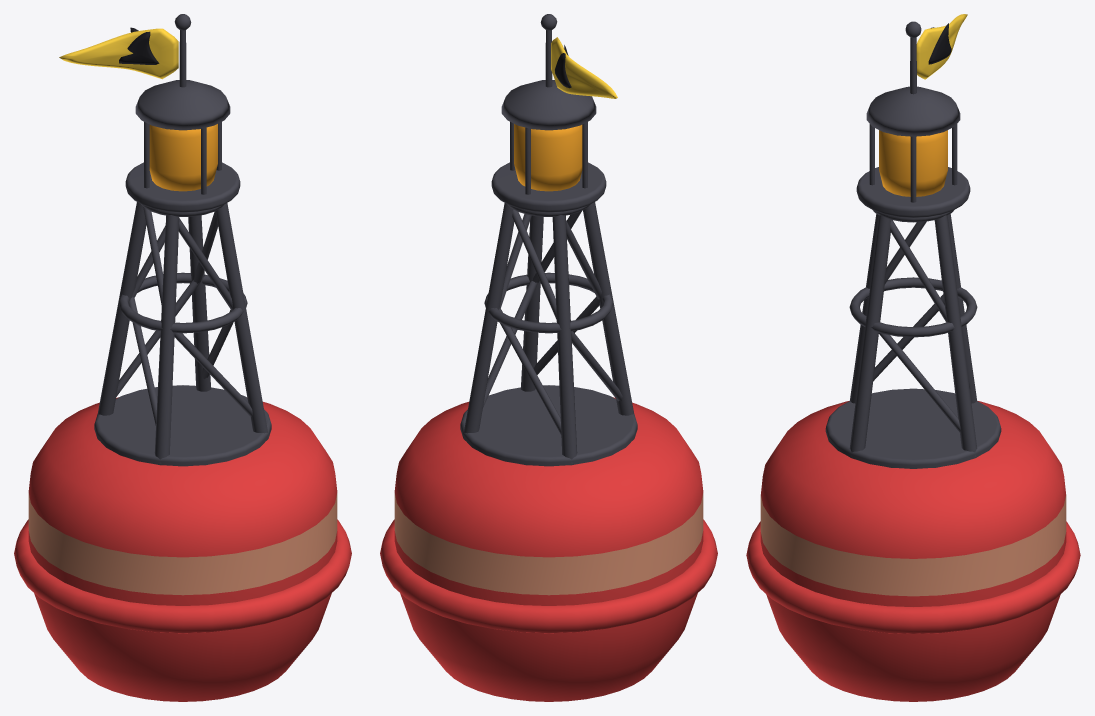
The model's file is SharkBaitBuoy.obj.
The picture shows the model from 3 angles, left to right: view 1: azimuth 30°, elevation 25°; view 2: azimuth 150°, elevation 25°; view 3: azimuth 270°, elevation 25°; orthographic projection.
Visible parts, largest first — view 1: Float, Cage, Stripe, Lamp, Flag, FlagMark; view 2: Float, Cage, Stripe, Lamp, Flag; view 3: Float, Cage, Stripe, Lamp, Flag.
Boxes of the visible parts, x1,y1,x2,y2 form: Float: (14, 397, 351, 701); Cage: (94, 14, 271, 466); Stripe: (28, 493, 337, 595); Lamp: (149, 124, 217, 191); Flag: (59, 28, 178, 79); FlagMark: (119, 27, 159, 64); Float: (380, 397, 717, 701); Cage: (460, 14, 637, 466); Stripe: (394, 493, 703, 595); Lamp: (514, 124, 582, 191); Flag: (551, 37, 617, 98); Float: (746, 401, 1080, 701); Cage: (825, 21, 1001, 468); Stripe: (760, 495, 1066, 596); Lamp: (879, 130, 947, 196); Flag: (916, 14, 967, 79).
Bounding box in the file's own units: 3.24 × 7 × 3.24.
